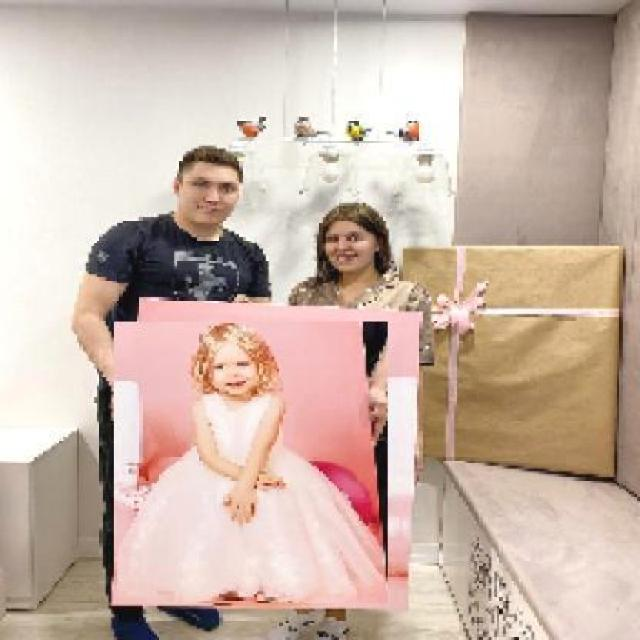child: (112, 322, 388, 604)
